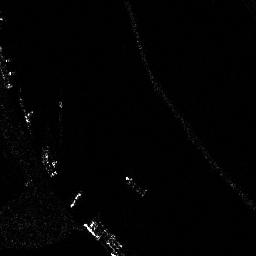ship: (124, 173, 148, 197)
